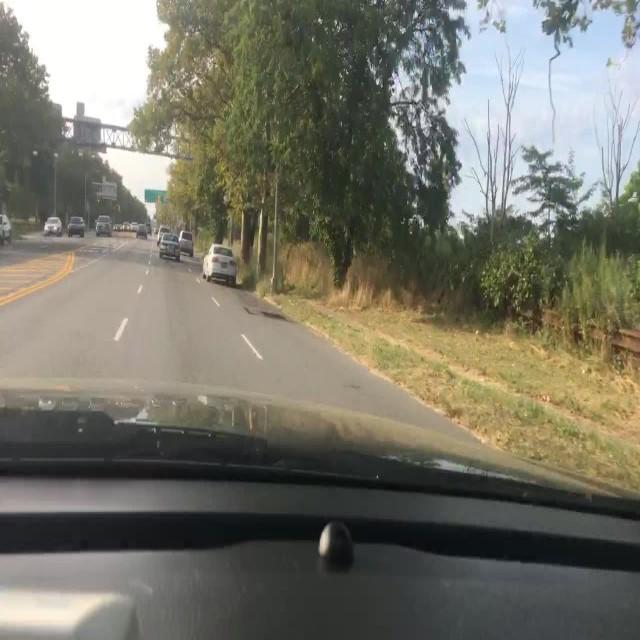normal: (201, 246, 237, 288), (159, 232, 182, 259), (67, 215, 86, 236), (44, 215, 64, 234), (0, 212, 12, 242)
